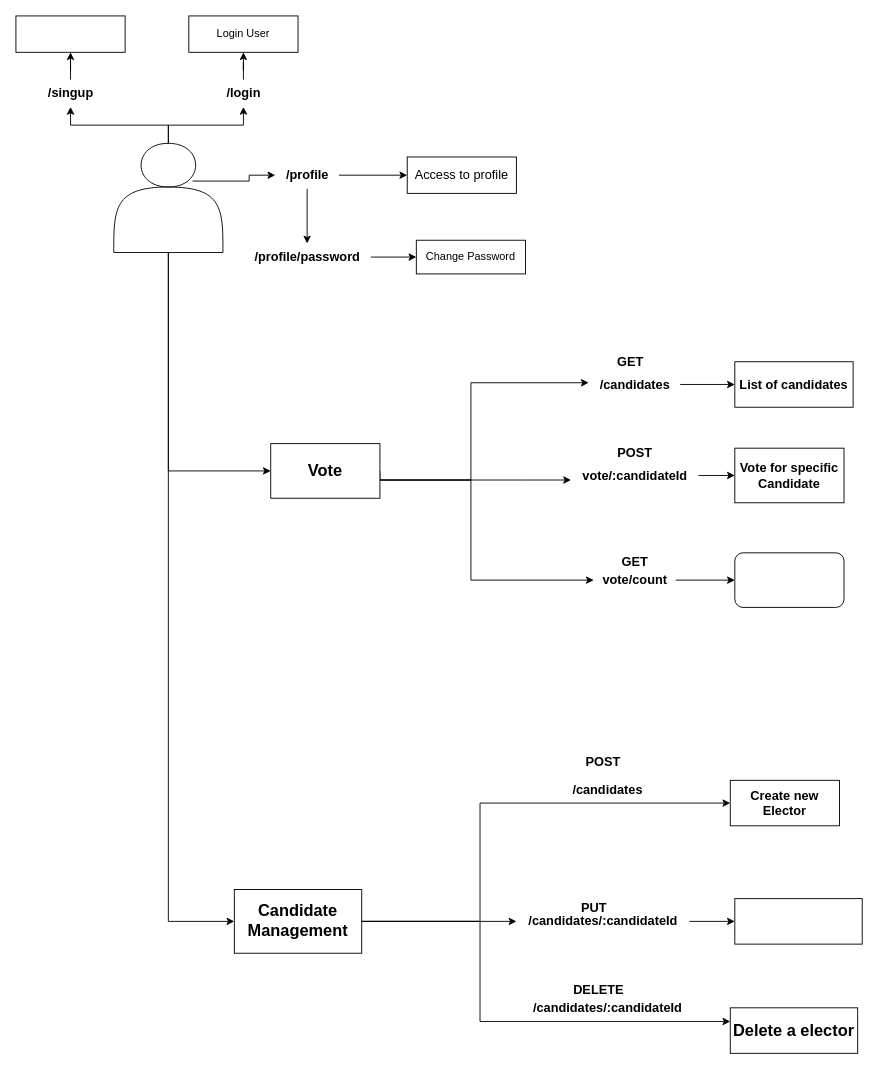
The diagram is 878 pixels wide and 1069 high, and some of its shapes have lost their labels. Here are the shapes that lost their labels. From the top down, the centre of each, then its label:
At [70,33]: "Create User".
At [168,197]: "USER".
At [789,579]: "Counting of Votes".
At [798,921]: "Update existing Elector".
